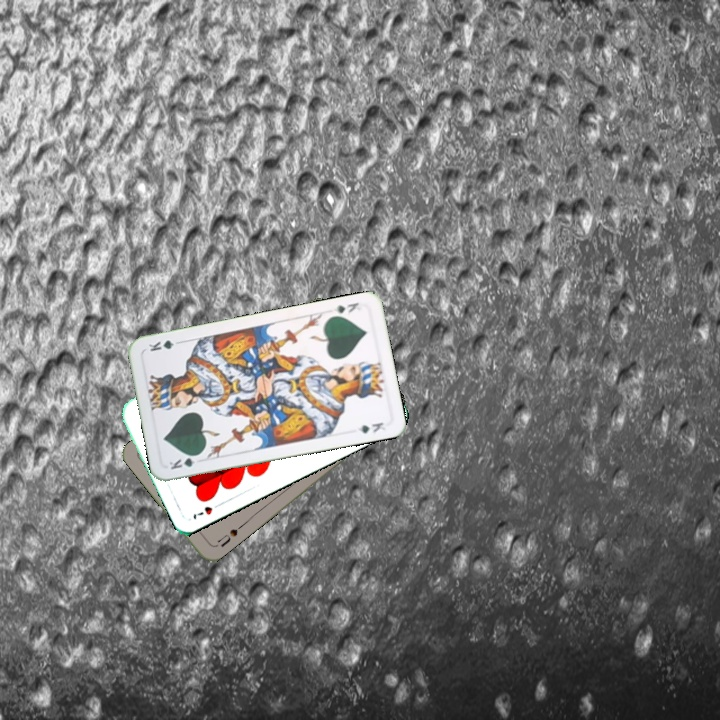GK: (165, 450, 203, 472), (330, 298, 361, 316)
H7: (189, 498, 225, 522)
SU: (213, 525, 240, 550)
